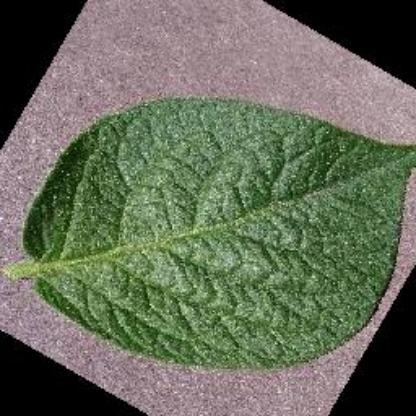Healthy-plant: (8, 76, 416, 376)
